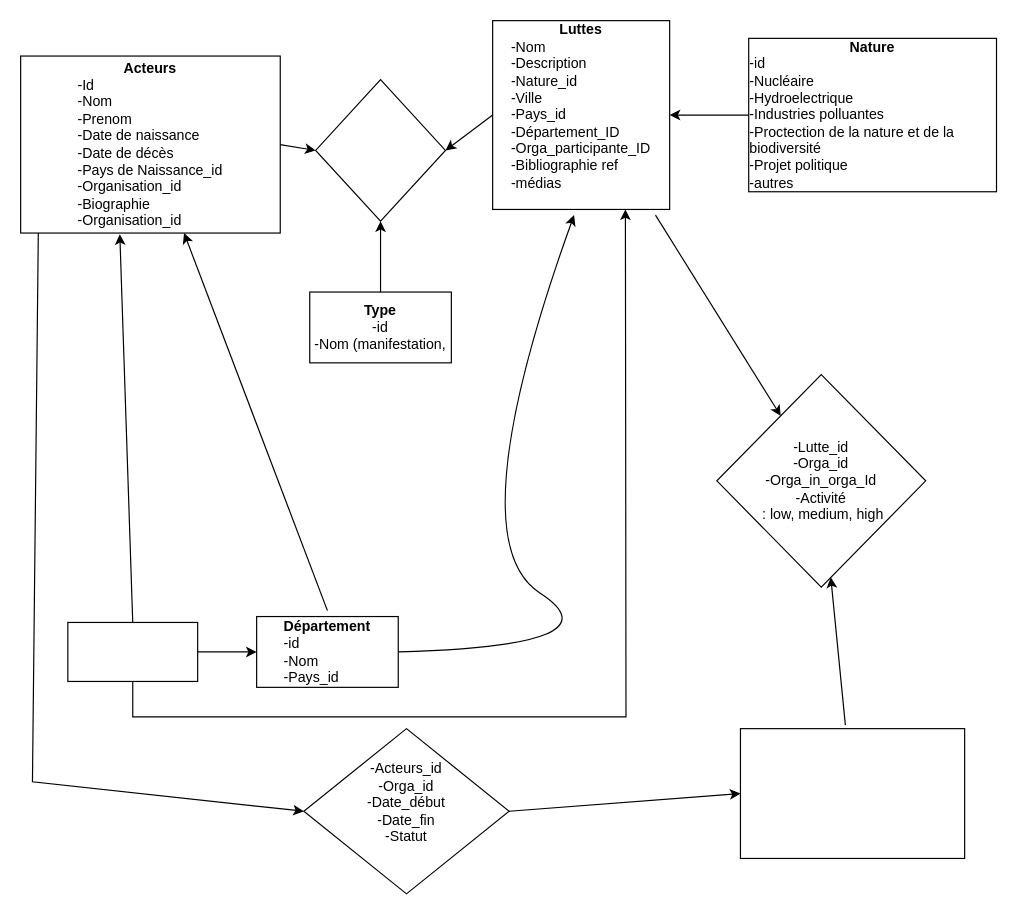
The diagram is 1017 pixels wide and 914 high, and some of its shapes have lost their labels. The shapes that lost their labels are listed below. From the top down, each one's box as (x1, y1, x2, y2) in pixels, then its label:
(314, 78, 445, 221): -acteurs_id -luttes_id -date -type_id
(67, 621, 198, 681): Pays -Id -Nom
(739, 727, 965, 858): Organisation id Nom Type Description
